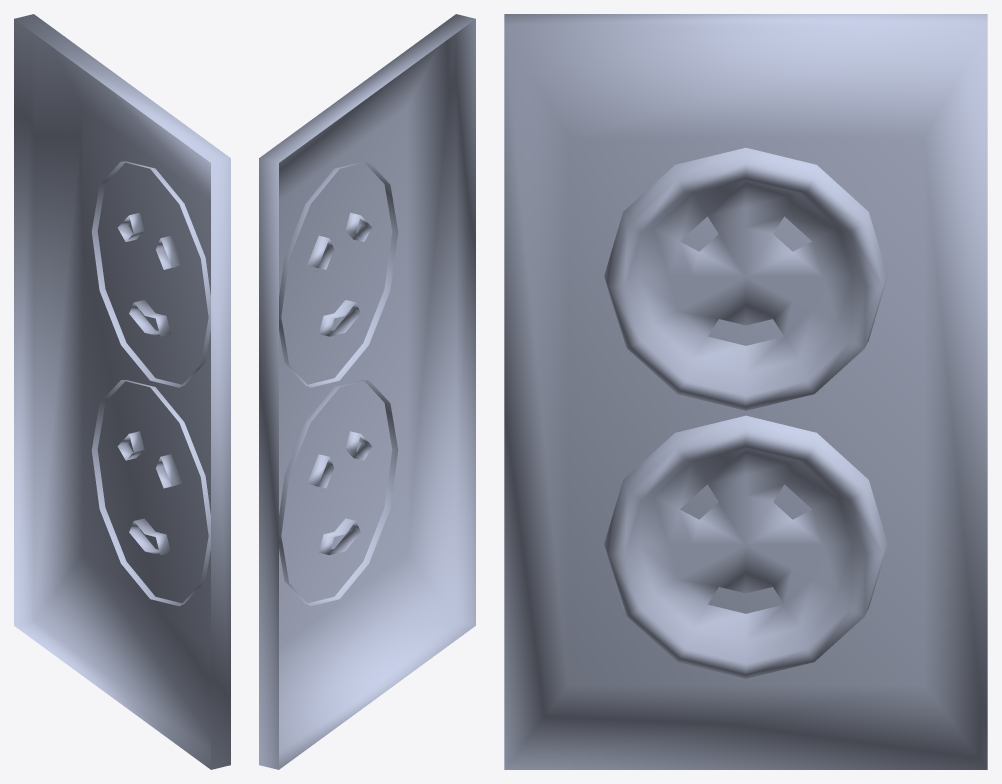
The model's file is MOD_ELE_Power_socket_01.fbx.
3 renders of one model, left to right at view 1: azimuth 30°, elevation 25°; view 2: azimuth 150°, elevation 25°; view 3: azimuth 270°, elevation 25°, orthographic. The views are drawn at different scales.
Visible parts, largest first — view 1: HSHP_MOD_Power_outlet_01; view 2: HSHP_MOD_Power_outlet_01; view 3: HSHP_MOD_Power_outlet_01.
Part boxes in pixels (x1,y1,x2,y2): HSHP_MOD_Power_outlet_01: [14, 14, 230, 769]; HSHP_MOD_Power_outlet_01: [259, 14, 475, 769]; HSHP_MOD_Power_outlet_01: [504, 14, 987, 769].
Bounding box in the file's own units: 0.0161 × 0.1543 × 0.0908.
